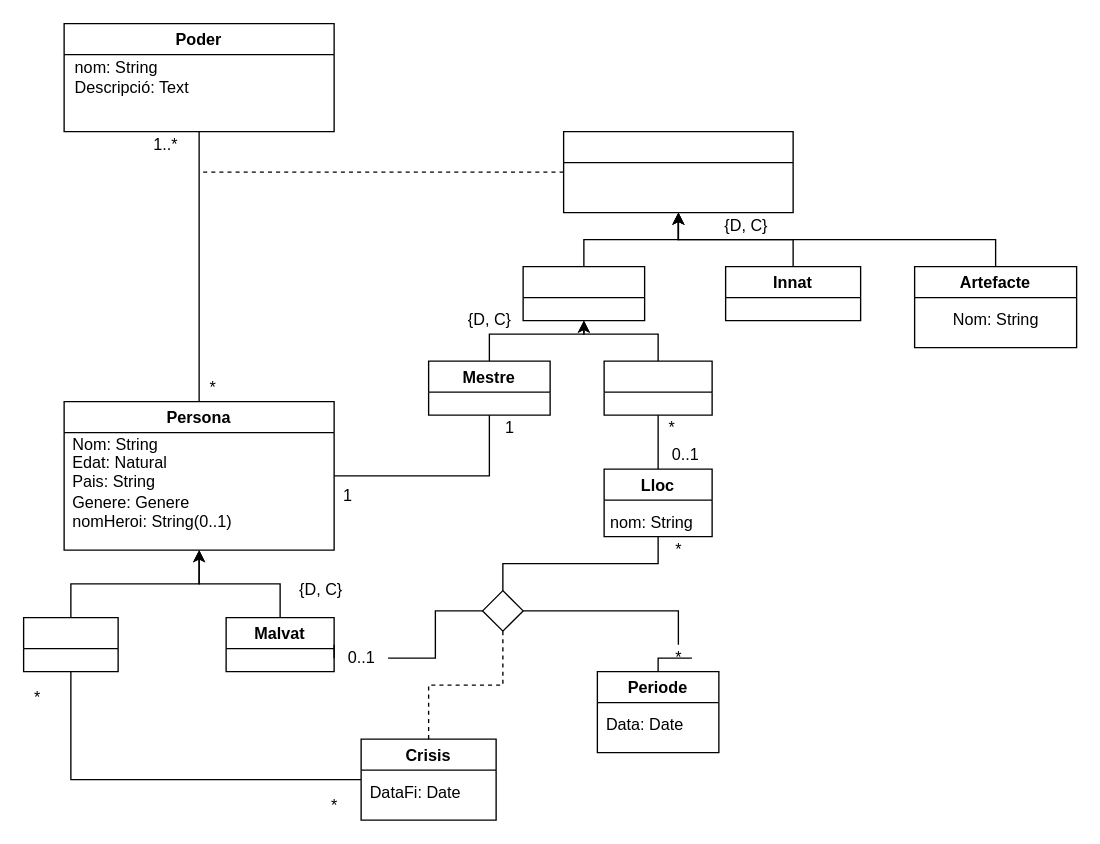
The diagram is 1100 pixels wide and 844 high, and some of its shapes have lost their labels. Each missing label, with the centre of its shape:
Aprés: pixel 583 293
Heroi: pixel 70 644
Localització: pixel 657 387
Poder_Poseit: pixel 677 171
